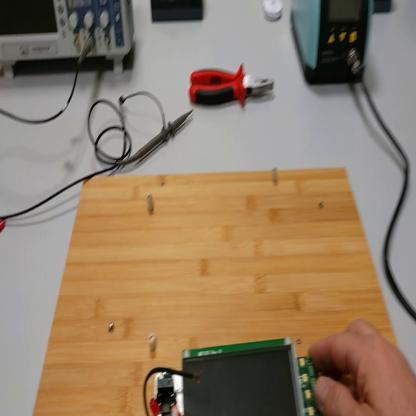hand: (310, 319, 416, 416)
low voltage board: (140, 338, 319, 415)
oscilloscope: (1, 1, 131, 80)
oscilloscope probe tip: (114, 104, 195, 167)
pliers: (191, 61, 276, 111)
socket: (372, 1, 395, 16)
welder station: (293, 3, 374, 88)
working area: (32, 168, 398, 415)
